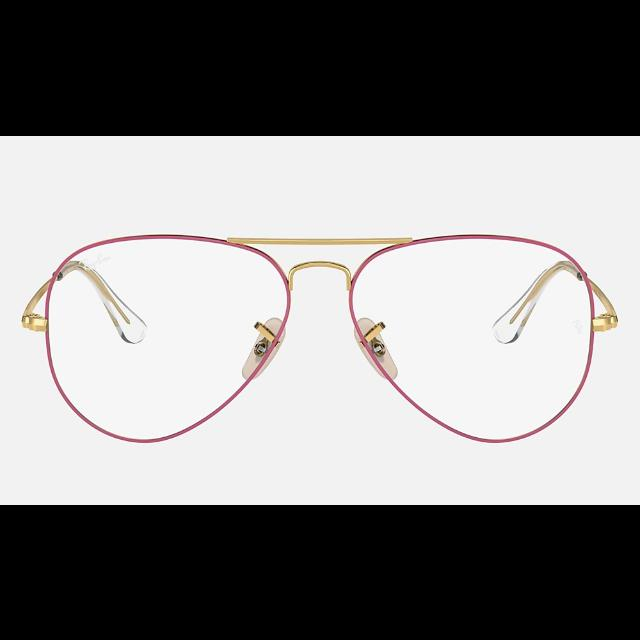glasses: (24, 233, 618, 443)
